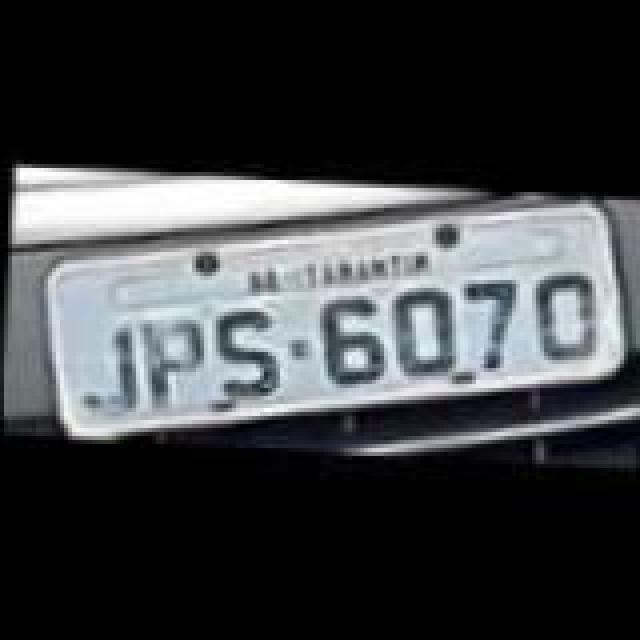6: (310, 284, 390, 388)
7: (456, 270, 524, 378)
J: (64, 312, 144, 420)
O: (382, 276, 470, 380), (520, 262, 604, 366)
P: (126, 302, 210, 410)
S: (200, 298, 280, 406)
